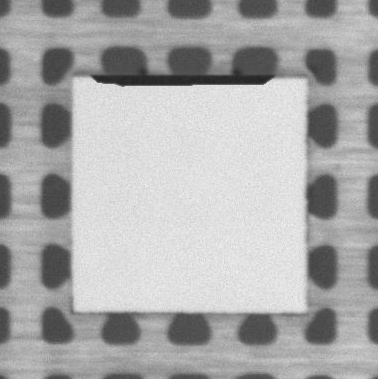DIE_BROKEN: (92, 69, 276, 88)
